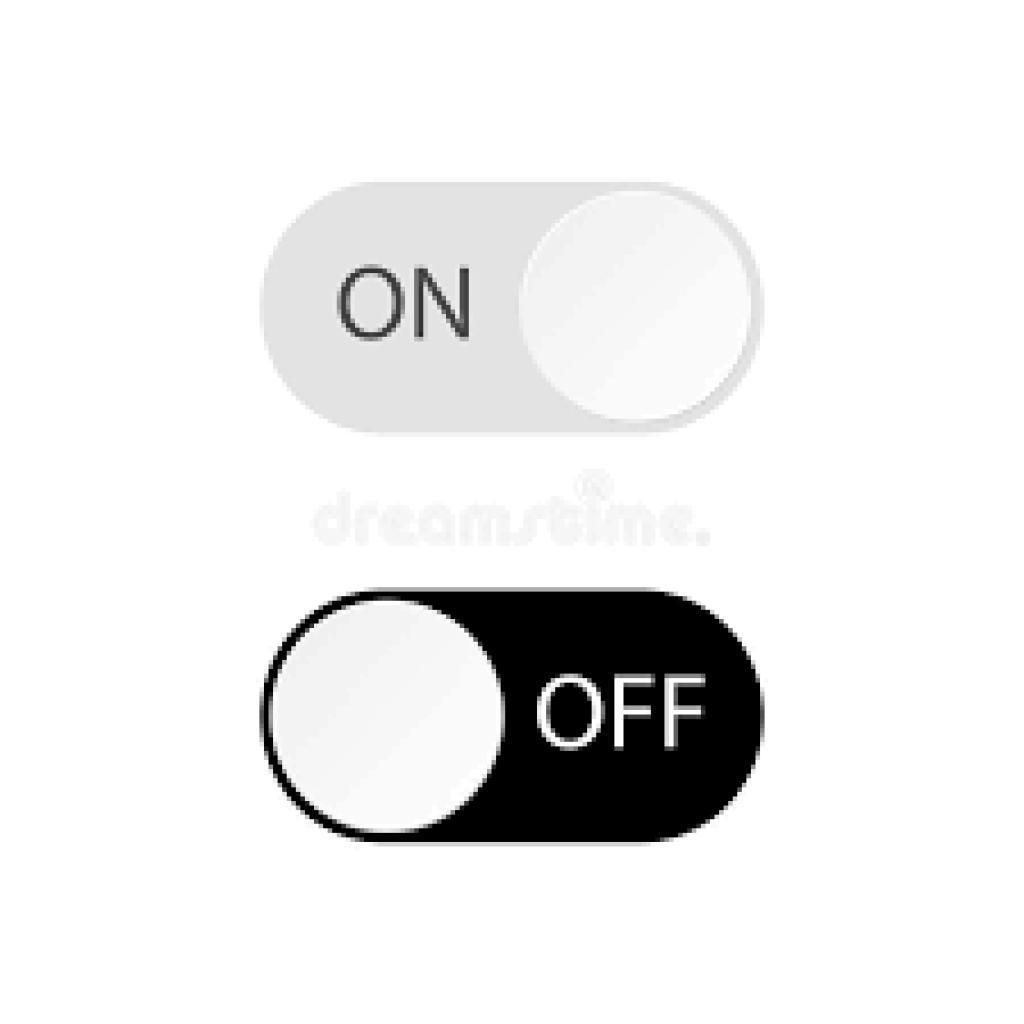switch: (263, 586, 767, 847), (262, 179, 768, 435)
